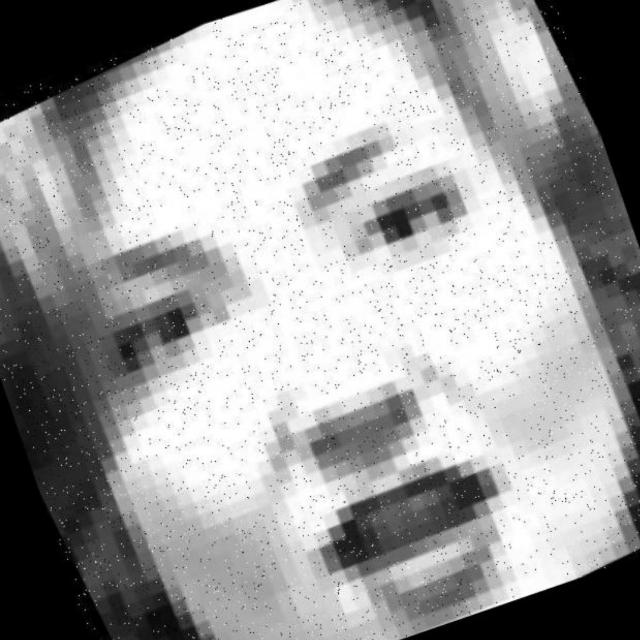Surprised: (15, 36, 625, 640)
